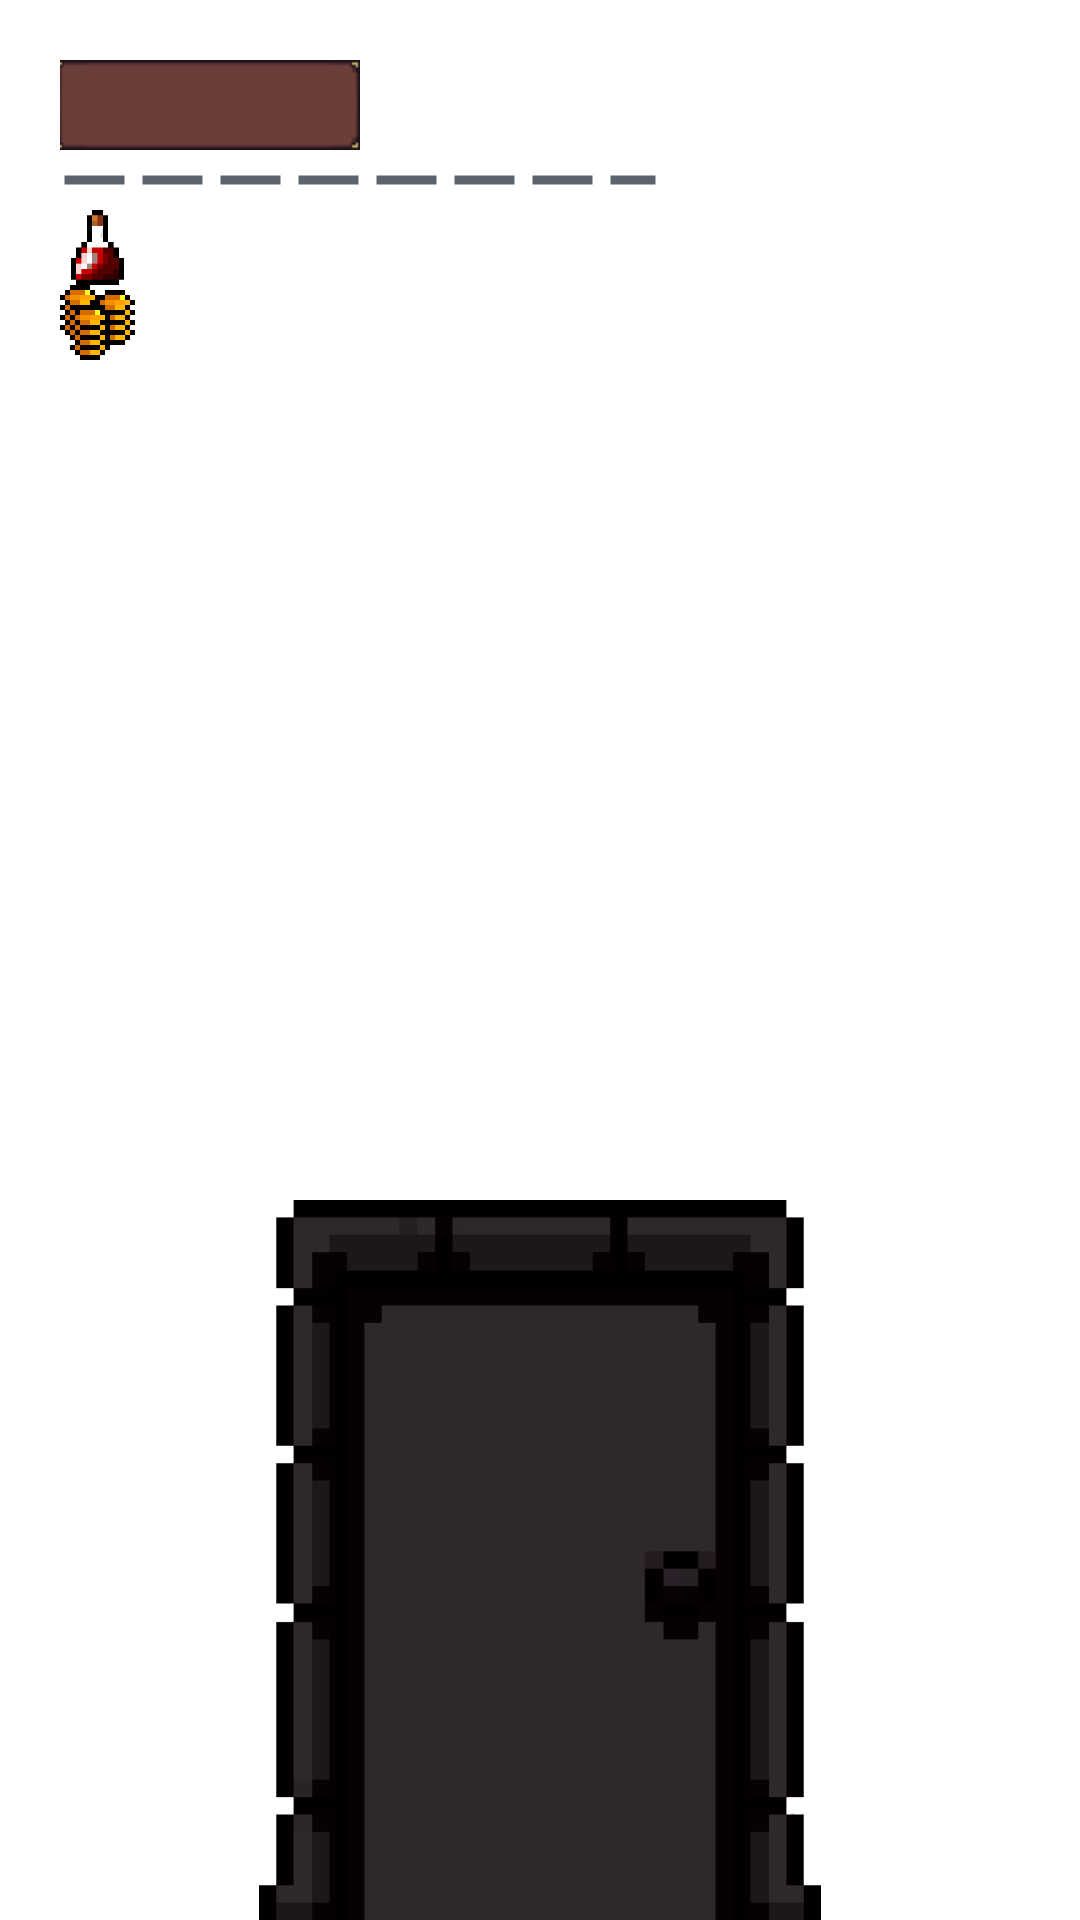

Where icons sit on this 1080 x 1920 app screen, as (x1, y1, x2, y2):
gold: (60, 285, 135, 360)
potions: (71, 210, 124, 285)
